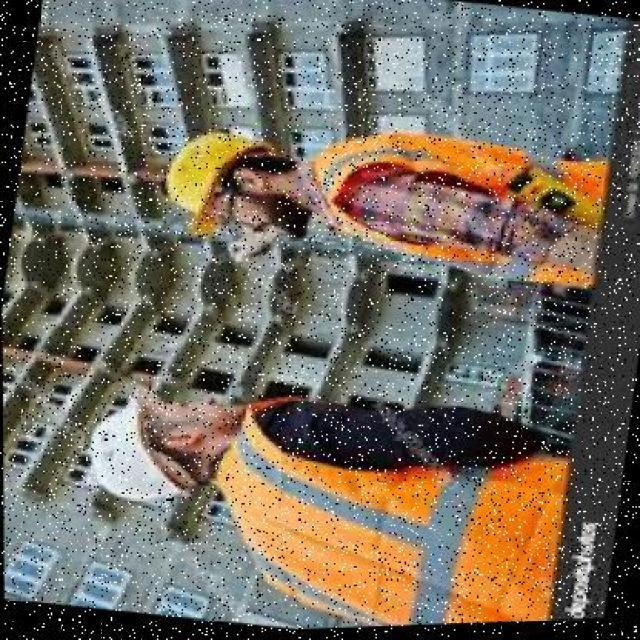helmet: (140, 109, 276, 250), (74, 379, 204, 519)
vest: (196, 377, 596, 633), (297, 109, 598, 303)
